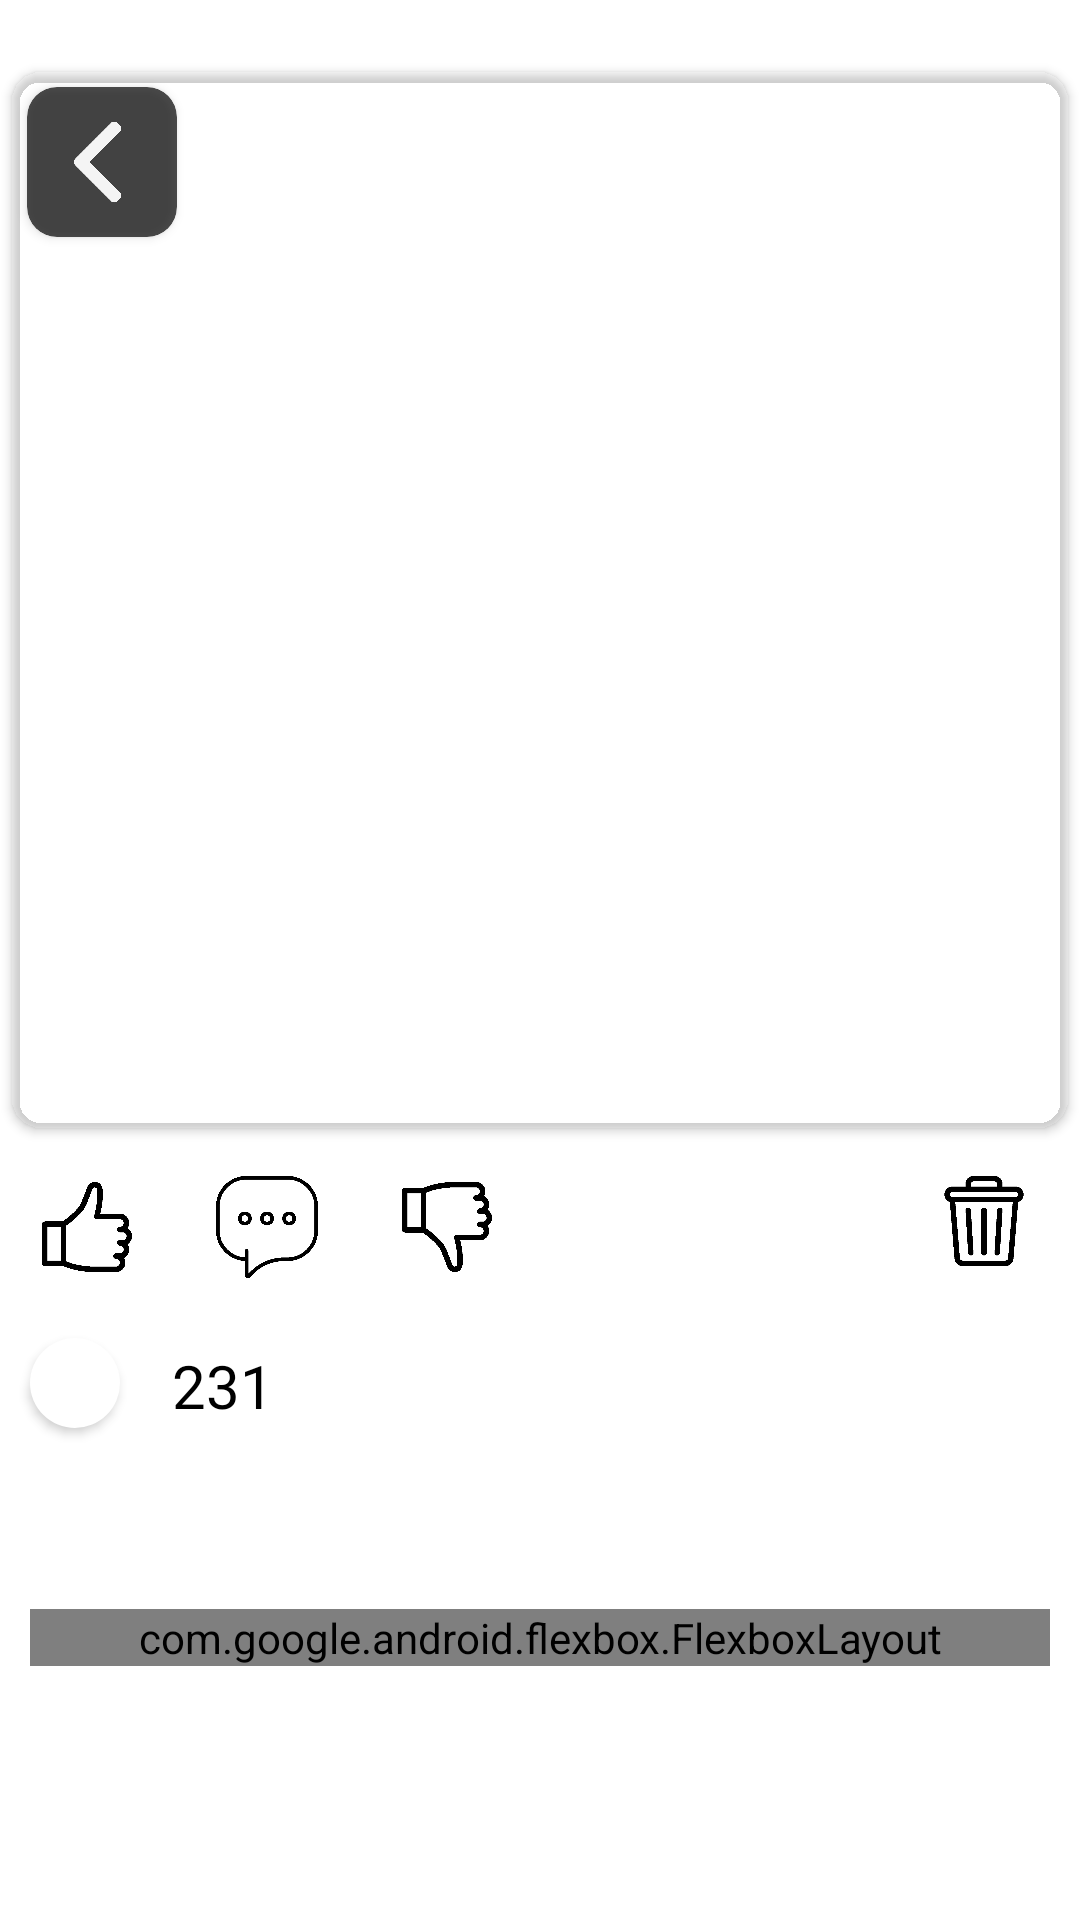

Where to tap for icons on this 1080px x 1920px app screen, as [x,y]:
arrow back: [97,162]
coment: [267,1227]
delete: [984,1221]
dislike: [447,1227]
like: [87,1227]
